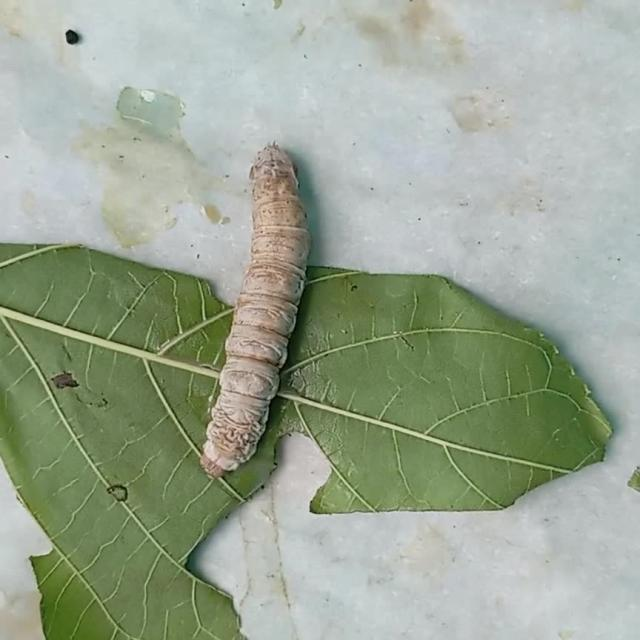Grasserie: (195, 140, 328, 492)
